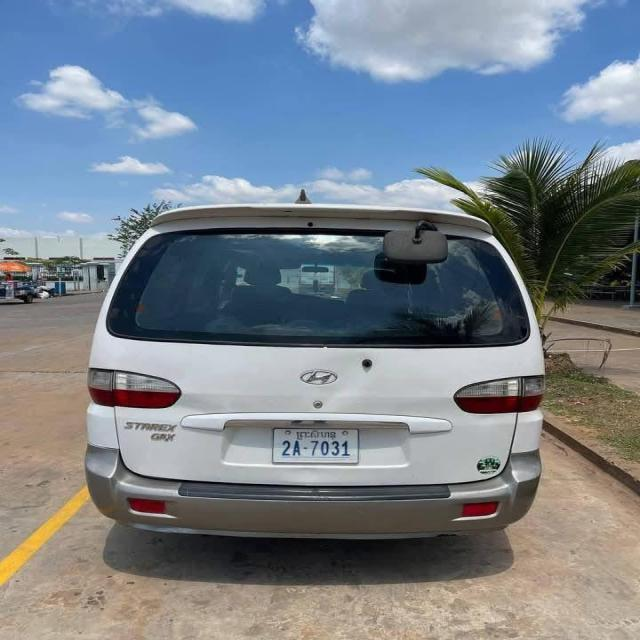Preah_Sihanouk: (295, 428, 341, 440)
